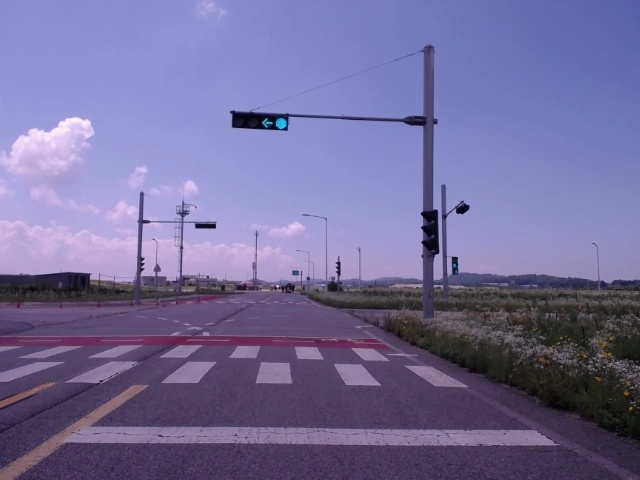all_green_4: (233, 110, 291, 132)
